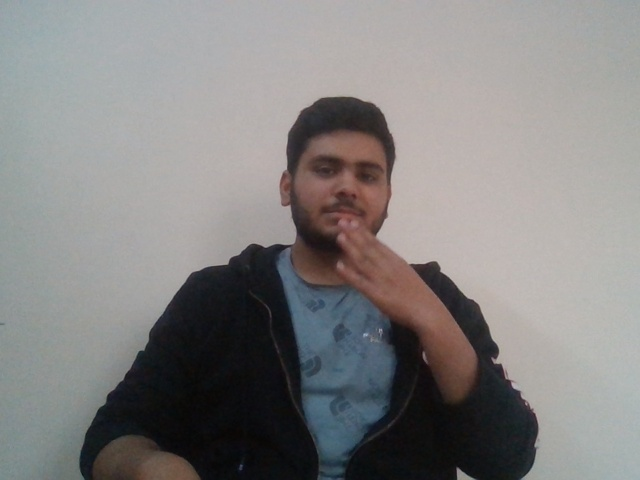Thanks: (305, 197, 424, 310)
